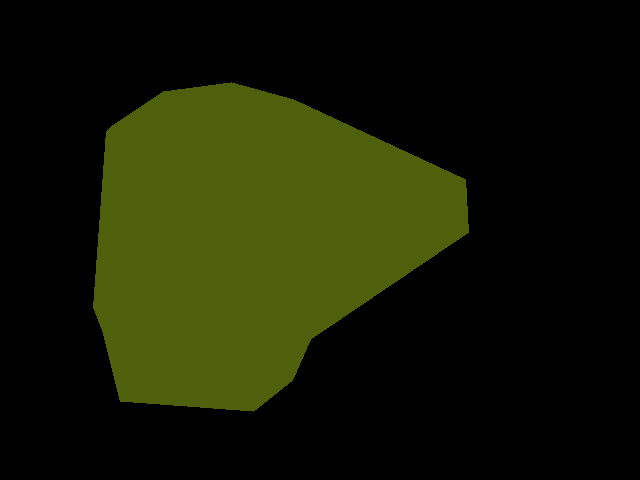Train: (93, 82, 468, 411)
